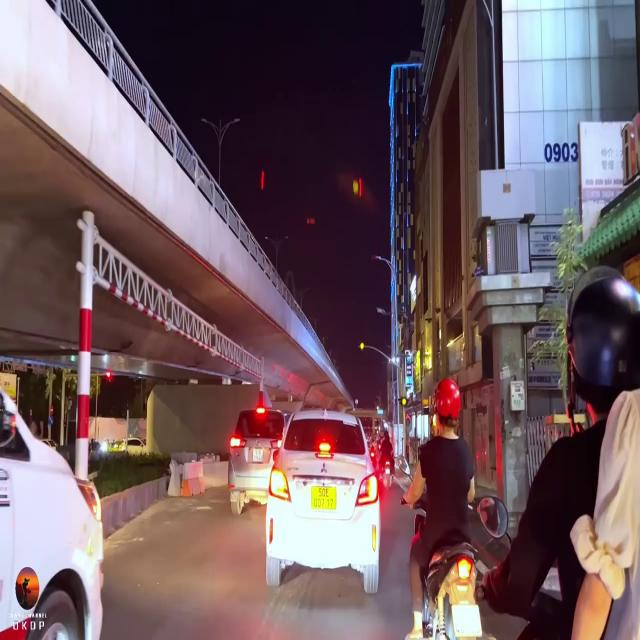bien_vang: (309, 479, 340, 517)
